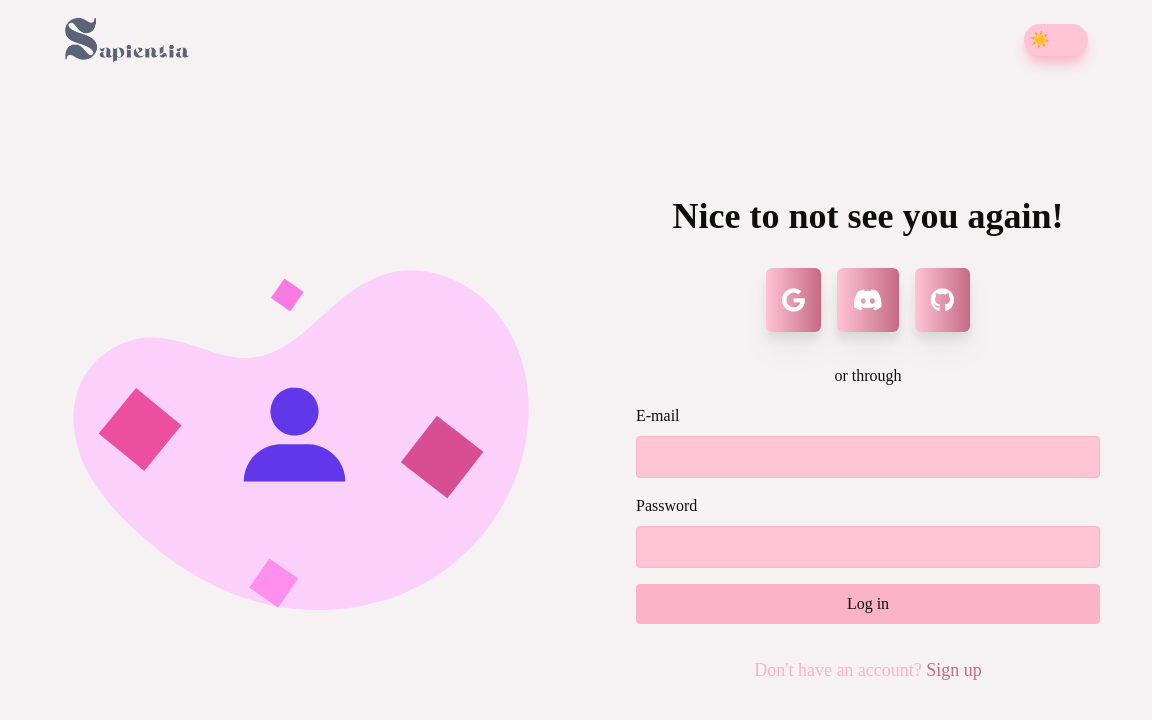
Test: Login Page › should show validation errors for invalid inputs
Click the submit button: (868, 604) [636,584,1100,624]
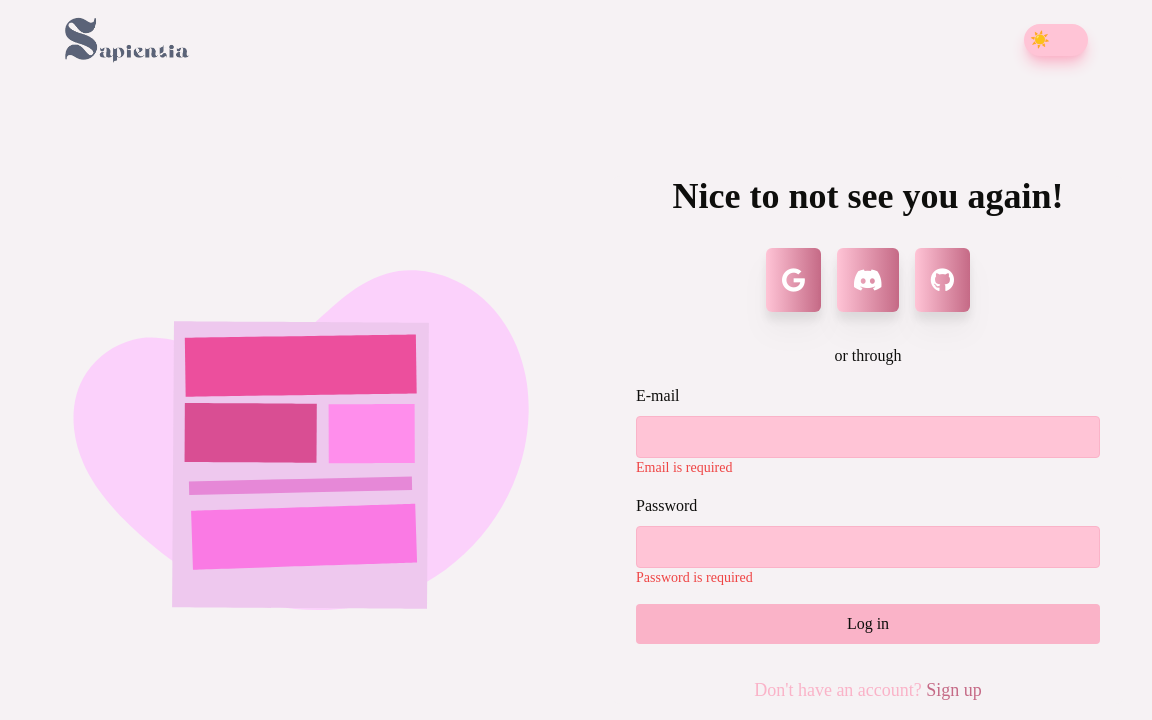
Result: the text "Email is required" is shown at [636,460,732,475]
Result: the text "Password is required" is shown at [636,570,753,585]
In the field with id "email": (868, 437) [636,416,1100,458], type "invalidemail"
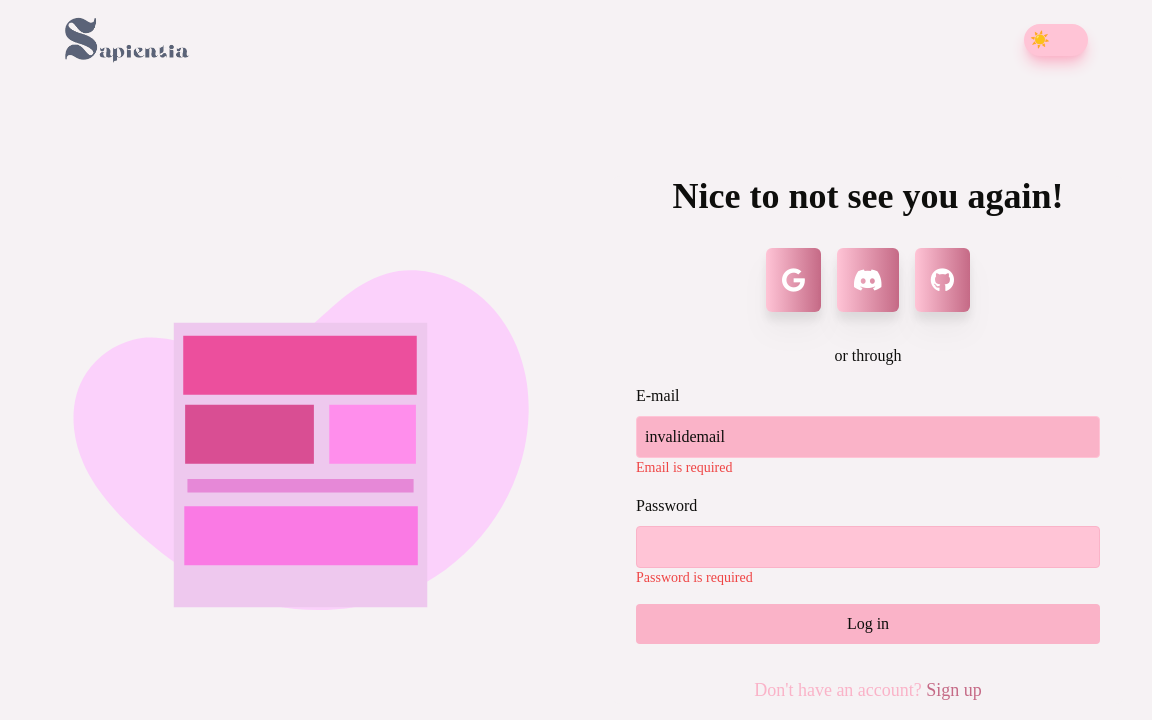
In the password field labelled "Password": (868, 547) [636,526,1100,568], type "short"
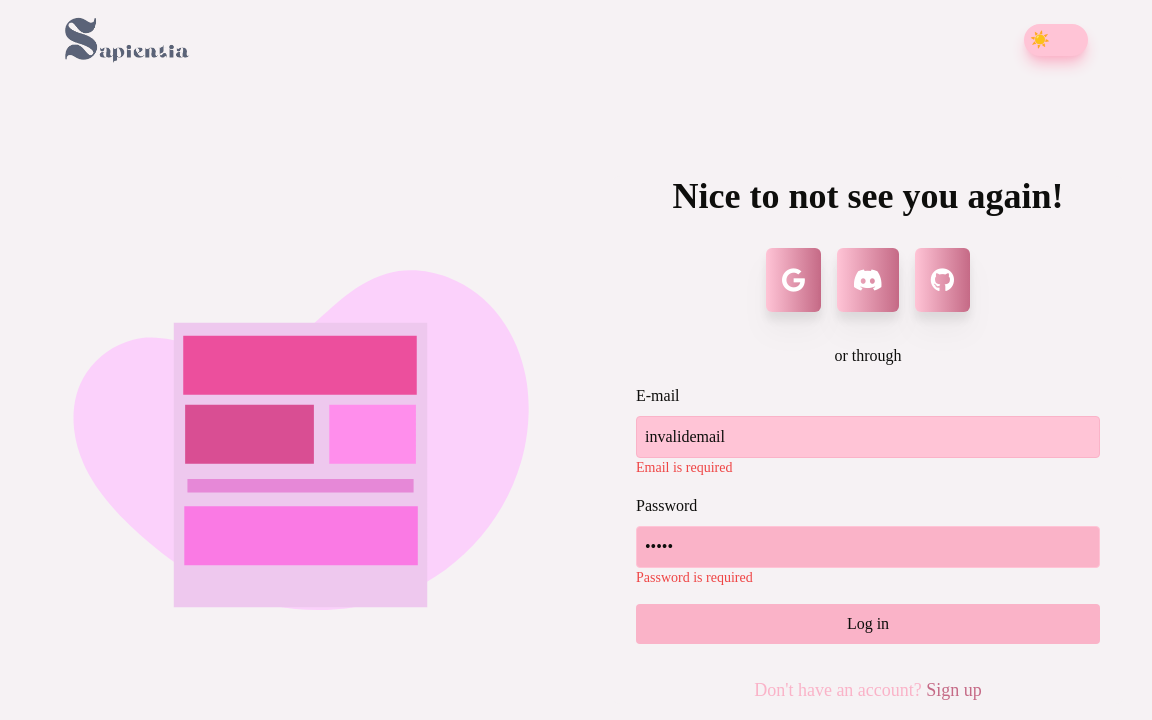
Click the submit button: (868, 624) [636,604,1100,644]
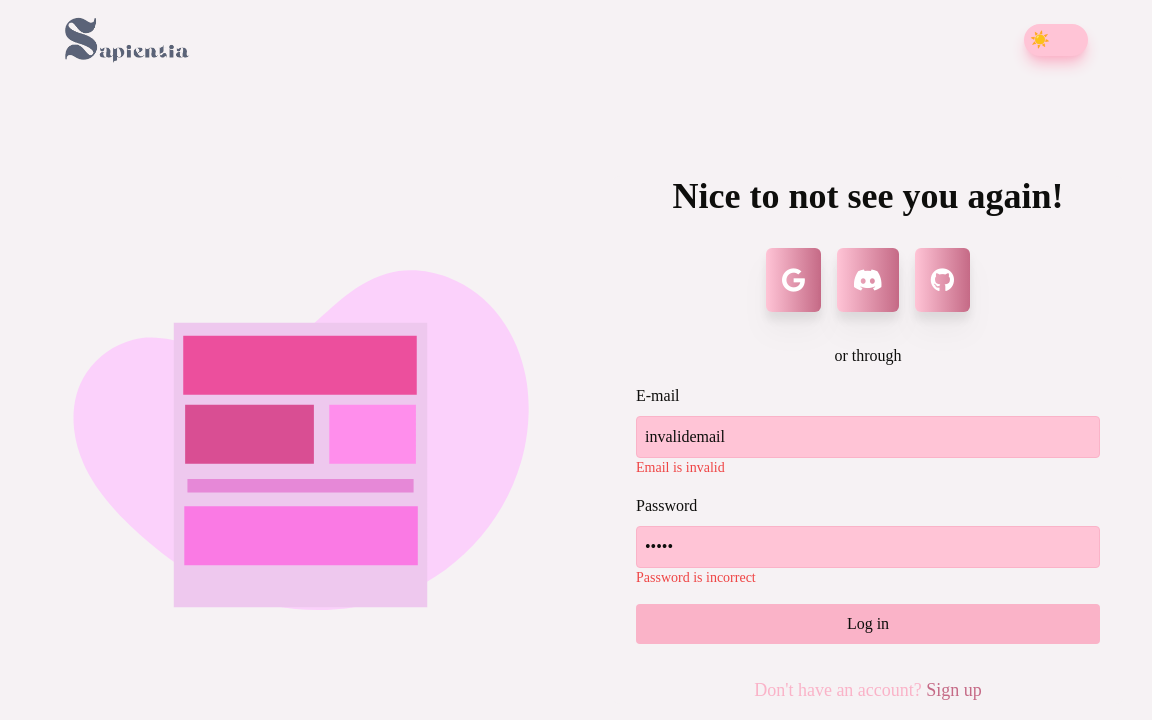
Result: the text "Email is invalid" is shown at [636,460,725,475]
Result: the text "Password is incorrect" is shown at [636,570,756,585]
